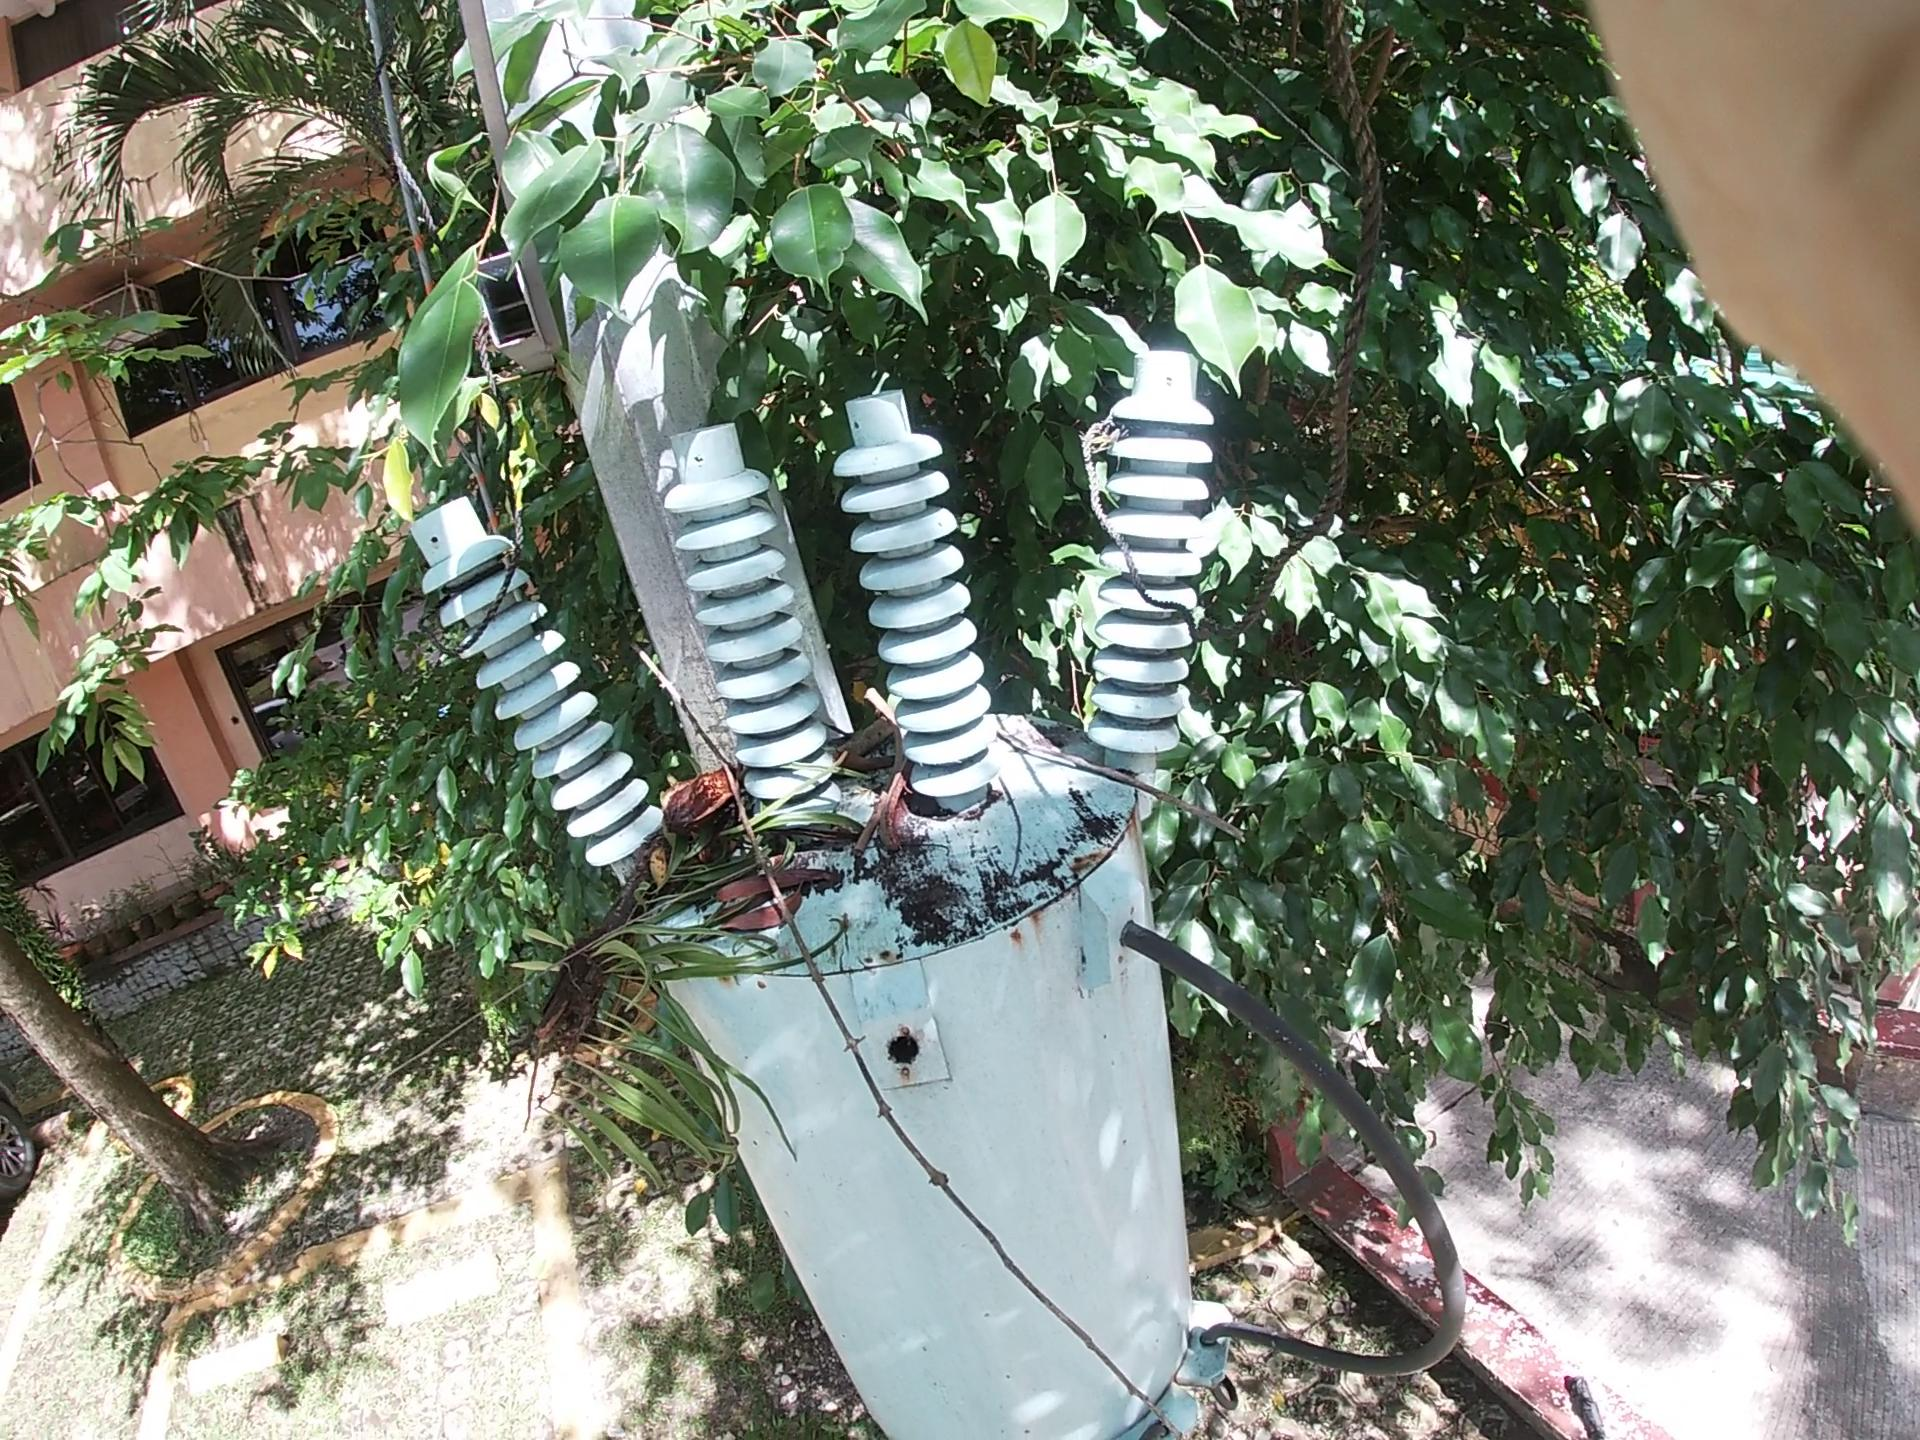branch with leaves: (470, 700, 925, 1169)
leaf: (701, 855, 887, 977)
mahogany fruit: (853, 687, 972, 906), (617, 746, 797, 882)
tree branch: (655, 617, 1067, 1431), (940, 678, 1339, 902), (821, 622, 974, 933)
